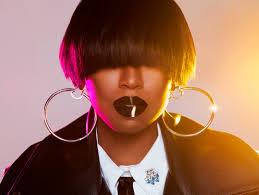black_female: (36, 1, 235, 161)
